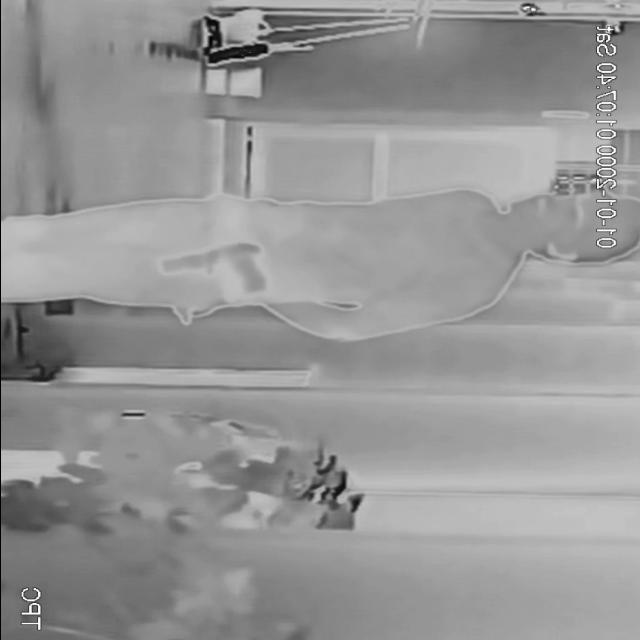Weapon: (150, 226, 270, 297)
